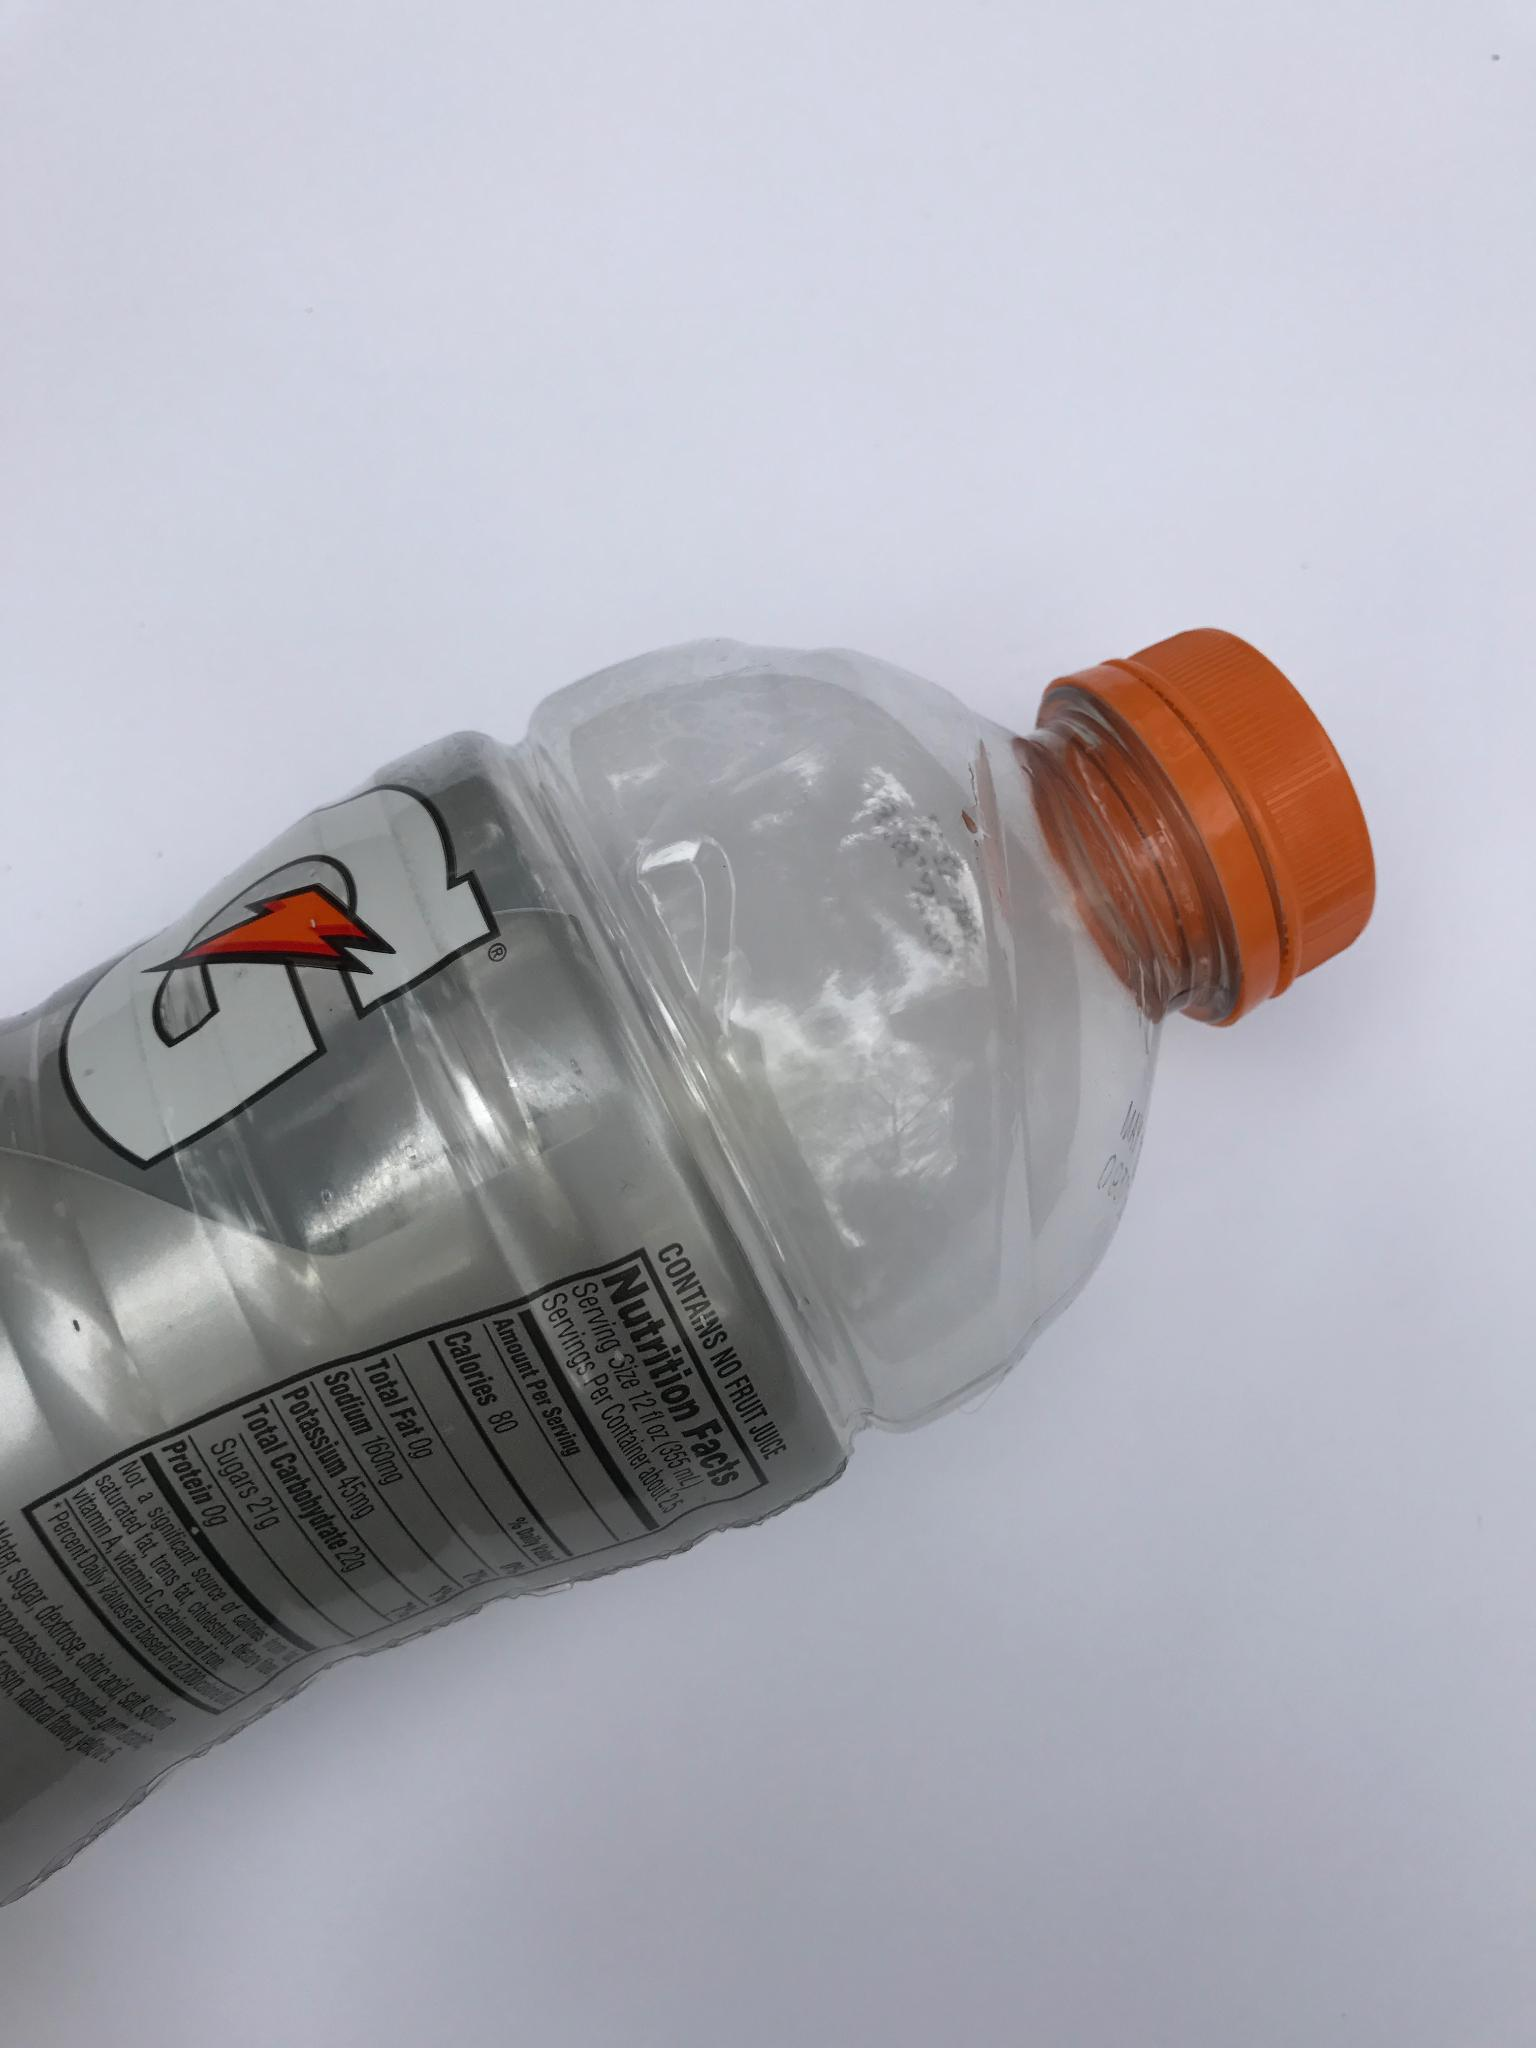Plastic: (0, 572, 1393, 2047)
